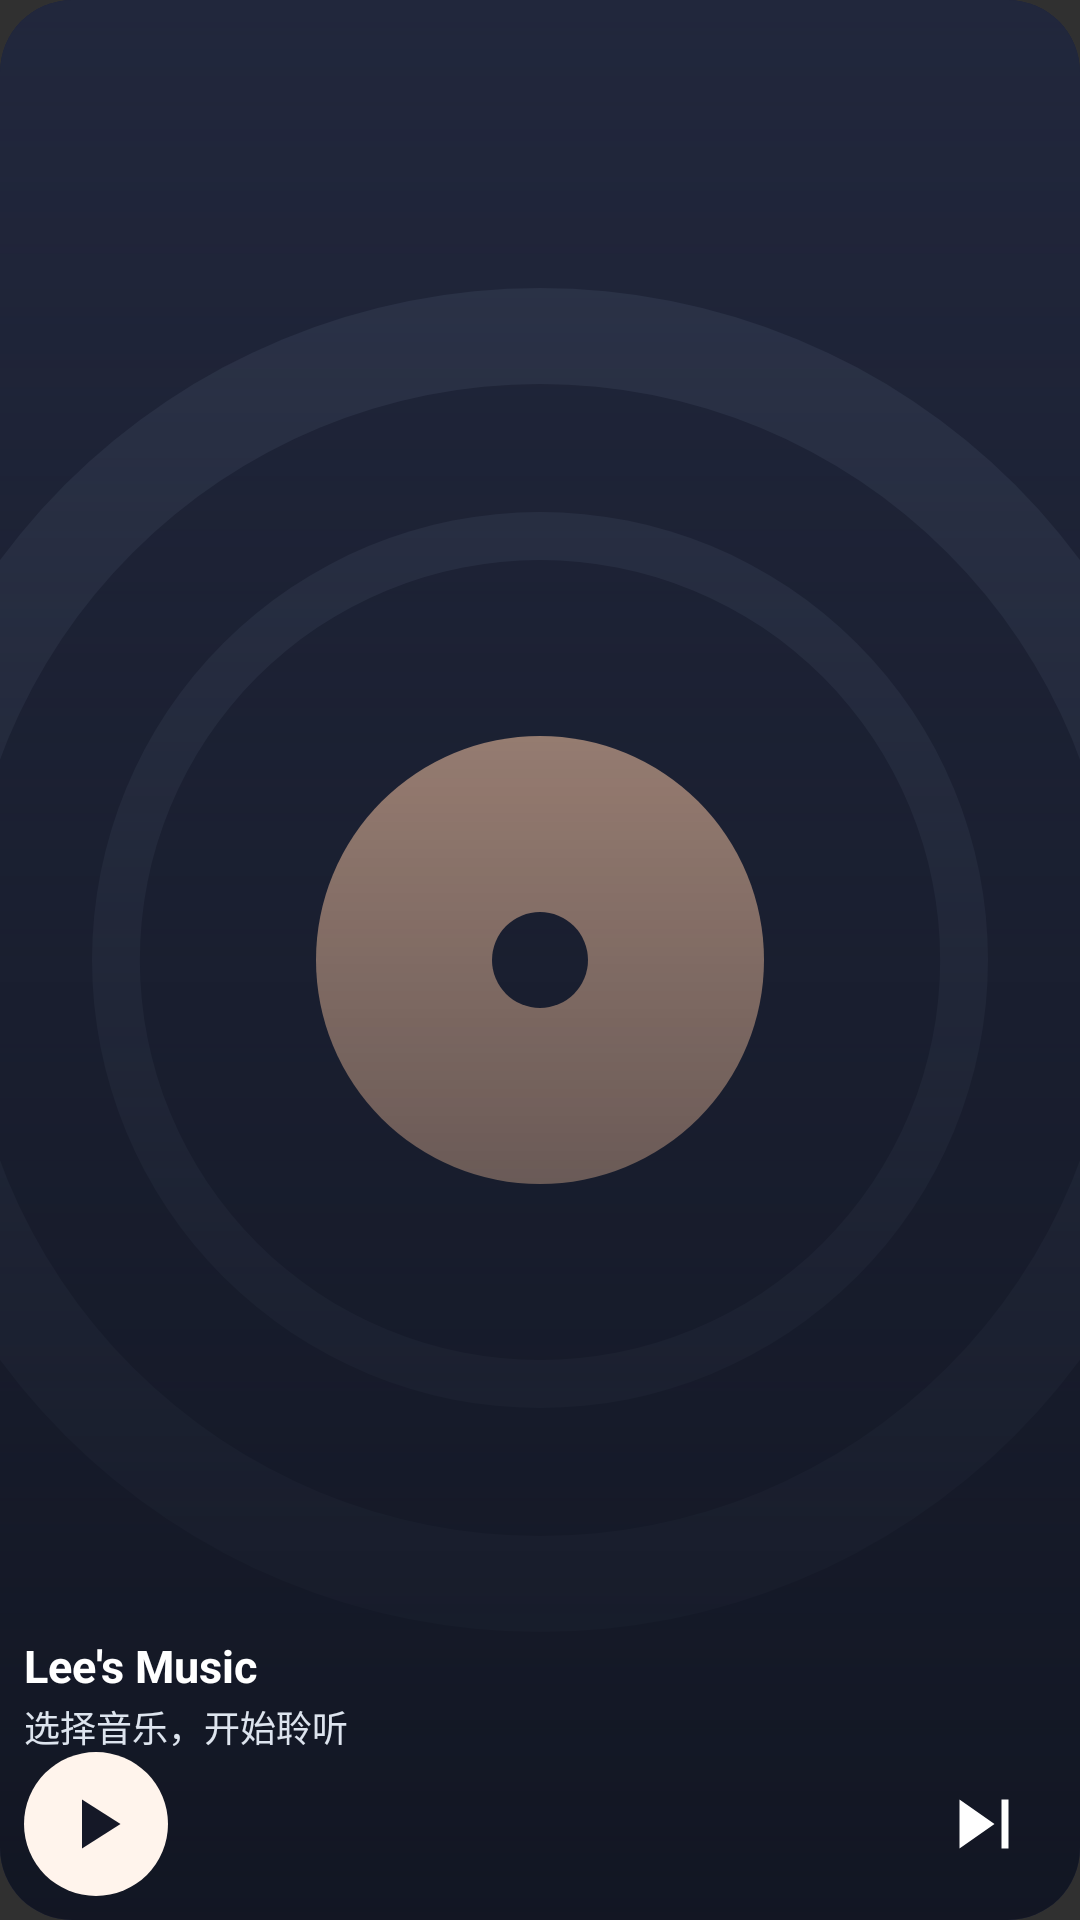

Icon bounding boxes for this 1080px×1920px phone screenshot, format box=[x1, y1, x2, y2]:
下一首: box=[959, 1799, 1009, 1849]
播放: box=[24, 1752, 168, 1896]
